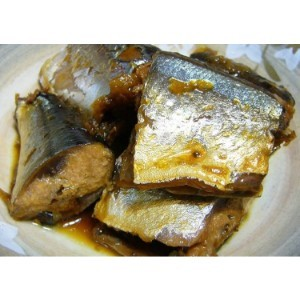sardine_brain food: (8, 62, 284, 237)
